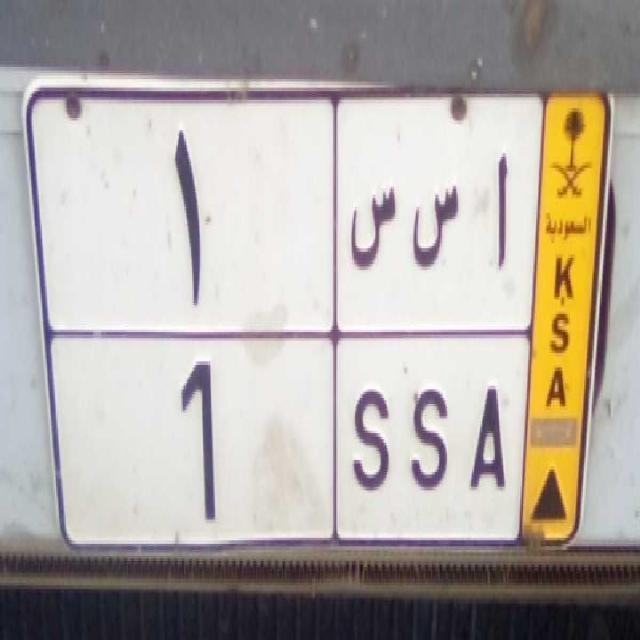license_plate: (68, 330, 519, 562)
